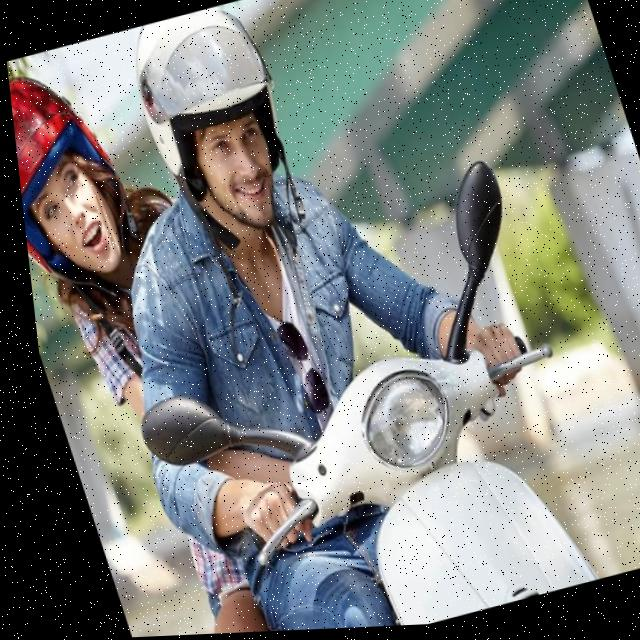helmet: (5, 52, 151, 303)
illegal_helmet: (110, 0, 351, 372)
